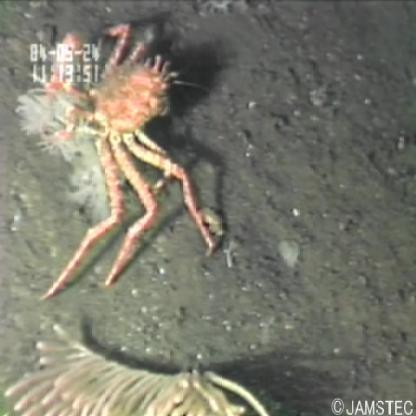Bio: (12, 17, 222, 303)
